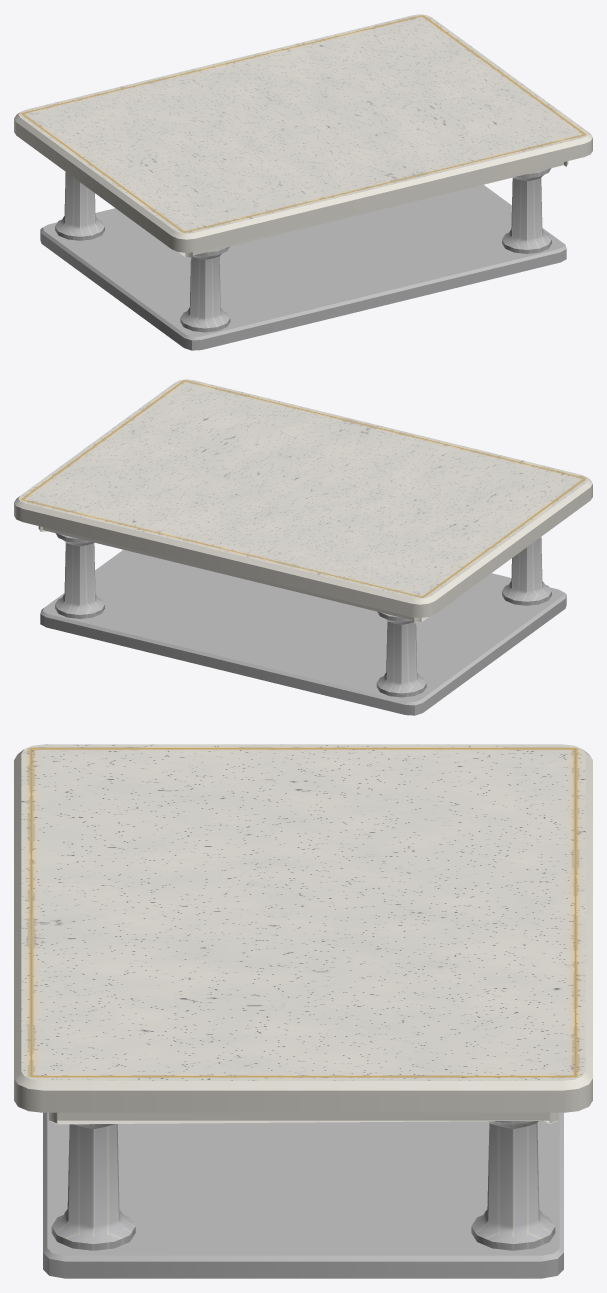
The model's file is Table_Marble.fbx.
The picture shows the model from 3 angles, top to bottom: view 1: azimuth 30°, elevation 25°; view 2: azimuth 150°, elevation 25°; view 3: azimuth 270°, elevation 25°; orthographic projection. The views are drawn at different scales.
Visible parts, largest first — view 1: Table_Marble; view 2: Table_Marble; view 3: Table_Marble.
Part boxes in pixels (left/top/right/bottom): Table_Marble: left=14, top=14, right=592, bottom=350; Table_Marble: left=14, top=379, right=592, bottom=715; Table_Marble: left=14, top=744, right=592, bottom=1278.
Size of the model in its own units: 5.6 by 1.6 by 4.
1 material, 1 textured.
